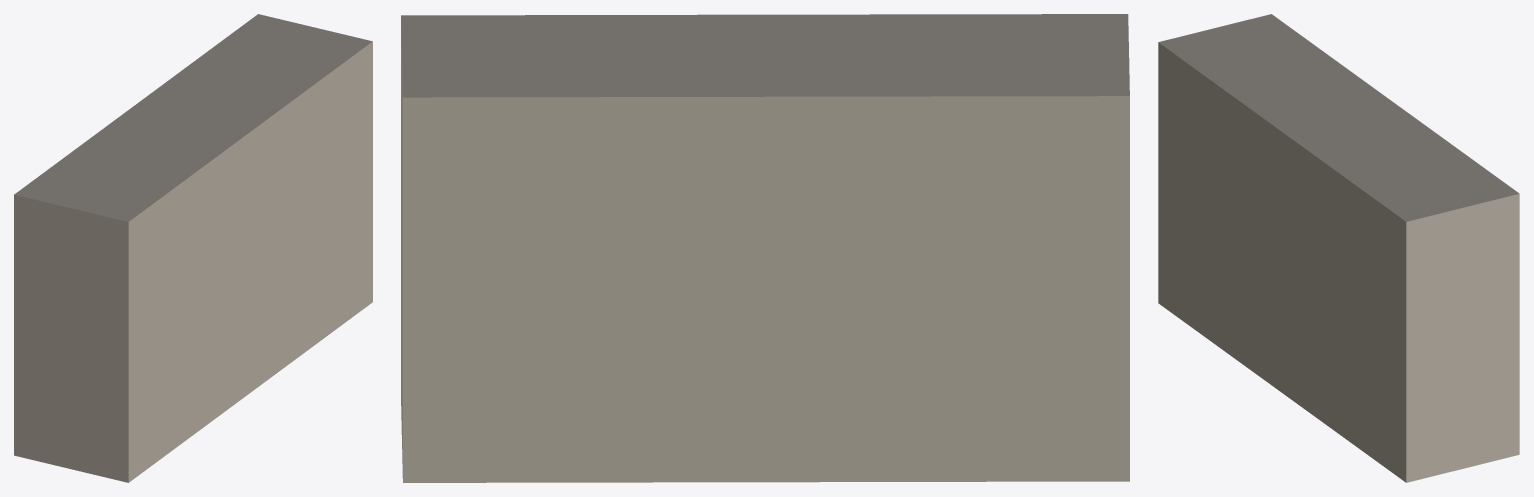
3 views of the same model, side by side, from view 1: azimuth 30°, elevation 25°; view 2: azimuth 150°, elevation 25°; view 3: azimuth 270°, elevation 25° (orthographic). The views are drawn at different scales.
Parts seen in each view (by area): view 1: HP-w389701912; view 2: HP-w389701912; view 3: HP-w389701912.
Part boxes in pixels (left/top/right/bottom): HP-w389701912: left=14, top=14, right=372, bottom=482; HP-w389701912: left=401, top=14, right=1129, bottom=482; HP-w389701912: left=1158, top=14, right=1519, bottom=482.
Bounding box in the file's own units: 30.76 × 18 × 22.6.
